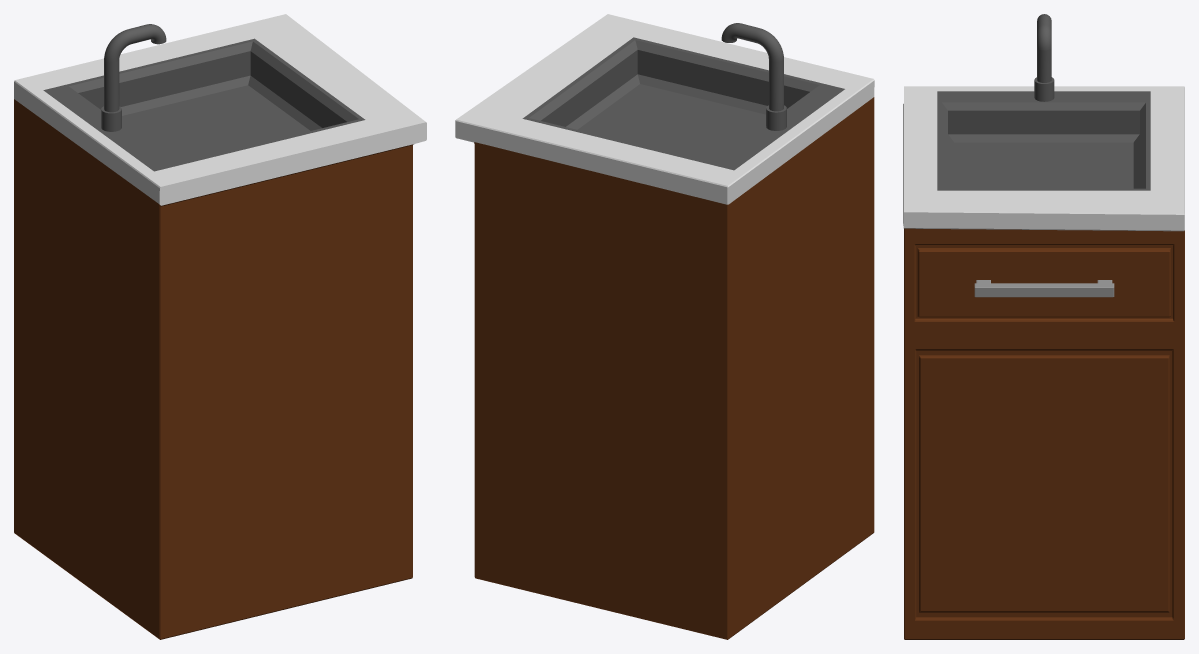
The model's file is SinkCabinet.fbx.
3 renders of one model, left to right at view 1: azimuth 30°, elevation 25°; view 2: azimuth 150°, elevation 25°; view 3: azimuth 270°, elevation 25°, orthographic. The views are drawn at different scales.
Parts seen in each view (by area): view 1: Cylinder.002; view 2: Cylinder.002; view 3: Cylinder.002.
Part boxes in pixels (x1,y1,x2,y2): Cylinder.002: (14, 14, 426, 639); Cylinder.002: (455, 14, 874, 639); Cylinder.002: (903, 14, 1184, 639).
Size of the model in its own units: 151 by 292 by 140.
